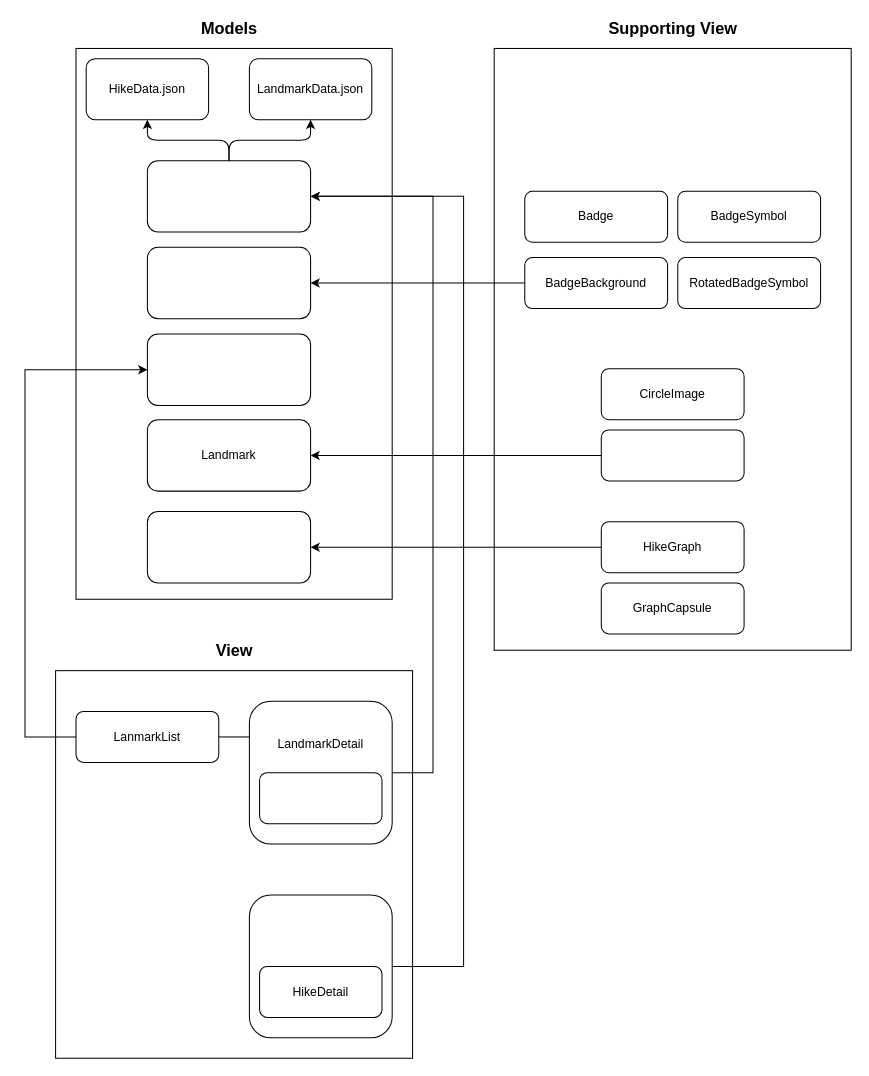
This 869x1076 diagram has some shape labels left out. Each missing label, with the box of its shape:
Data: (146, 160, 311, 232)
HexagonParameters: (146, 246, 311, 319)
Hike: (146, 511, 311, 583)
HikeView: (248, 894, 392, 1038)
LandmarkRow: (600, 429, 744, 481)
MapView: (259, 772, 382, 824)
UserData: (146, 333, 311, 405)
